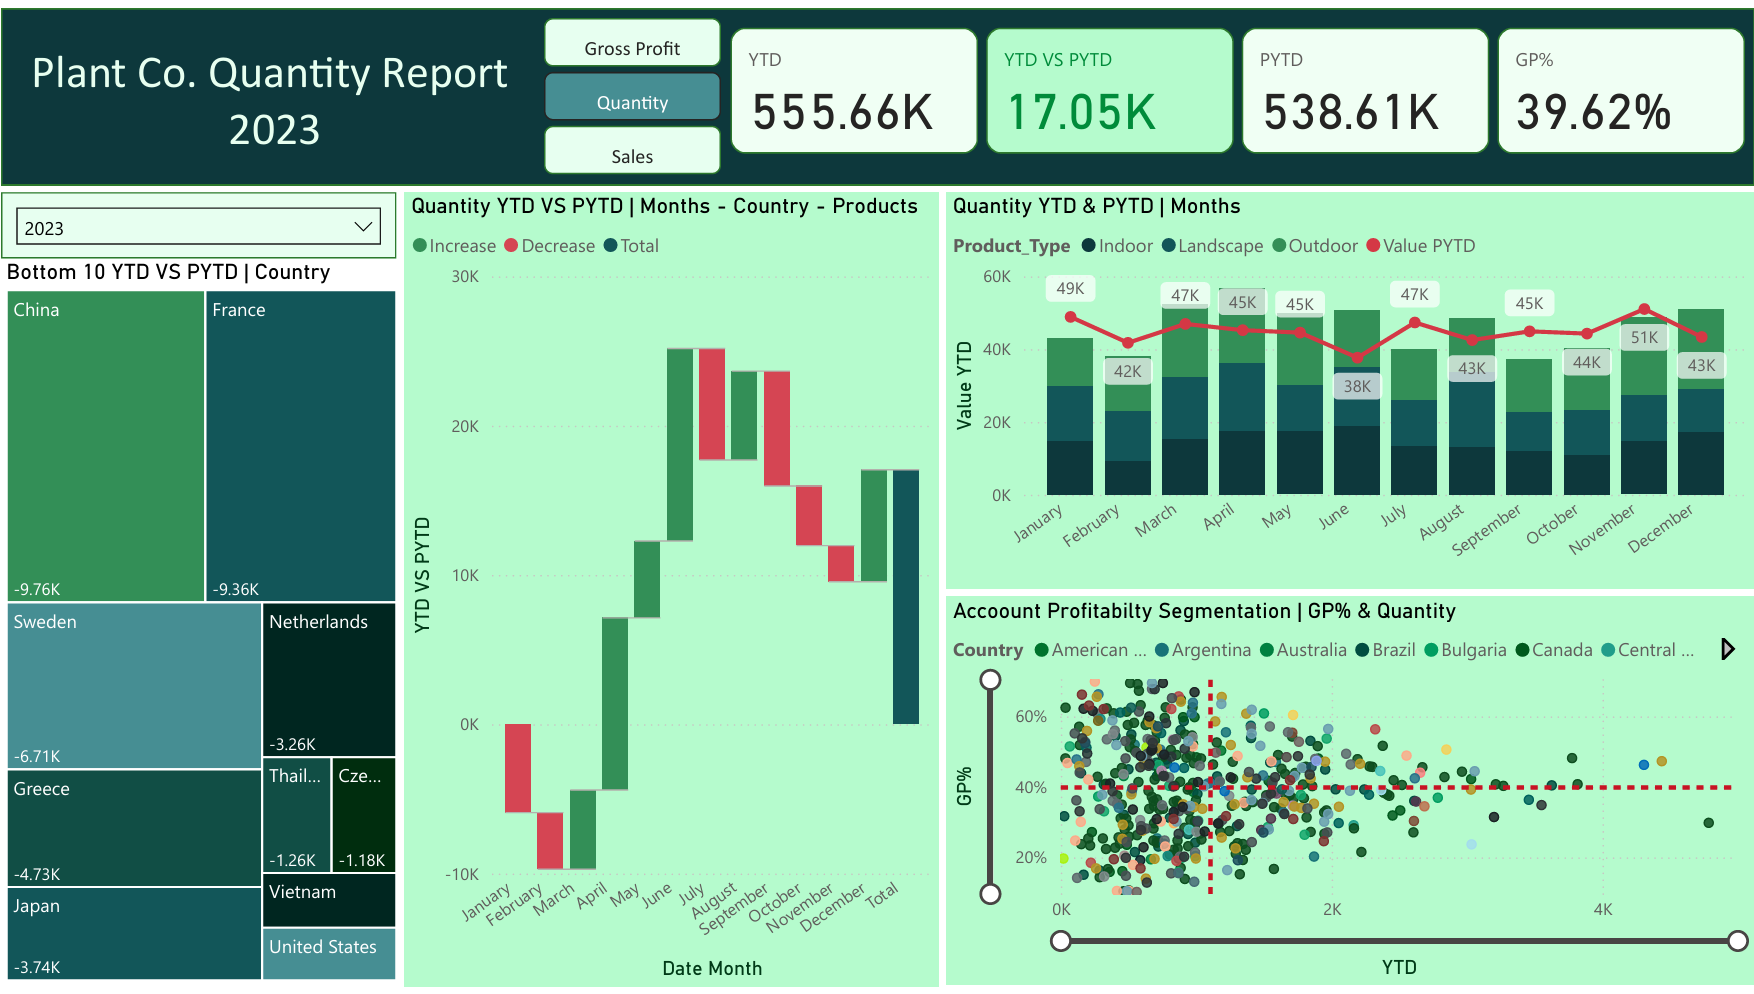

What the dashboard file says about the page in this screenshot:
{"tool":"powerbi","page":{"name":"PLANT CO. REPORT","canvas":[1280,720],"ordinal":0},"visuals":[{"type":"shape","box":[4.6,6.3,1269.4,128.2],"z":0},{"type":"cardVisual","fields":{"Data":["_Measures.Switch_YTD","_Measures.YTD VS PYTD","_Measures.Switch_PYTD","_Measures.GP%"]},"box":[528.2,15.4,747.4,101.3],"z":1000},{"type":"advancedSlicerVisual","fields":{"Values":["Slicer_Type.Type"]},"box":[392.6,13.5,138.7,114.1],"z":2000},{"type":"slicer","fields":{"Values":["Dim_Date.Date.Variation.Date Hierarchy.Year"]},"box":[5,139,286,48],"z":3000},{"type":"treemap","title":"Bottom 10 YTD VS PYTD | Country","fields":{"Group":["Dim_Accounts.Country"],"Values":["_Measures.YTD VS PYTD"]},"box":[4.4,187.2,292,526.4],"z":4000},{"type":"waterfallChart","fields":{"Y":["_Measures.YTD VS PYTD"],"Category":["Dim_Date.Date.Variation.Date Hierarchy.Month","Dim_Accounts.Country","Dim_Products.Produt_Type","Dim_Products.Product_Name_id"]},"box":[296.6,139.2,387.3,574.6],"z":5000},{"type":"lineStackedColumnComboChart","fields":{"Y":["_Measures.Switch_YTD"],"Y2":["_Measures.Switch_PYTD"],"Category":["Dim_Date.Date.Variation.Date Hierarchy.Month","Dim_Date.Date.Variation.Date Hierarchy.Quarter"],"Series":["Dim_Products.Produt_Type"]},"box":[689,139.4,585.3,287.1],"z":6000},{"type":"scatterChart","fields":{"X":["_Measures.Switch_YTD"],"Y":["_Measures.GP%"],"Category":["Dim_Accounts.Account"],"Series":["Dim_Accounts.Country"]},"box":[689.1,432.4,585,280.8],"z":7000},{"type":"card","fields":{"Values":["_Measures._Report_Title"]},"box":[9.8,9.8,379.1,114.1],"z":8000}]}

Visuals, with their boxes in screenshot pixels (x1, y1, x2, y2), scaled from the page's 1280x720 canvas onto the 1754x994 screenshot:
shape: 6 9 1746 186
cardVisual - _Measures.Switch_YTD x _Measures.YTD VS PYTD: 724 21 1748 161
advancedSlicerVisual - Slicer_Type.Type: 538 19 728 176
slicer - Dim_Date.Date.Variation.Date Hierarchy.Year: 7 192 399 258
"Bottom 10 YTD VS PYTD | Country" treemap: 6 258 406 985
waterfallChart - _Measures.YTD VS PYTD x Dim_Date.Date.Variation.Date Hierarchy.Month: 406 192 937 985
lineStackedColumnComboChart - _Measures.Switch_YTD x _Measures.Switch_PYTD: 944 192 1746 589
scatterChart - _Measures.Switch_YTD x _Measures.GP%: 944 597 1746 985
card - _Measures._Report_Title: 13 14 533 171
